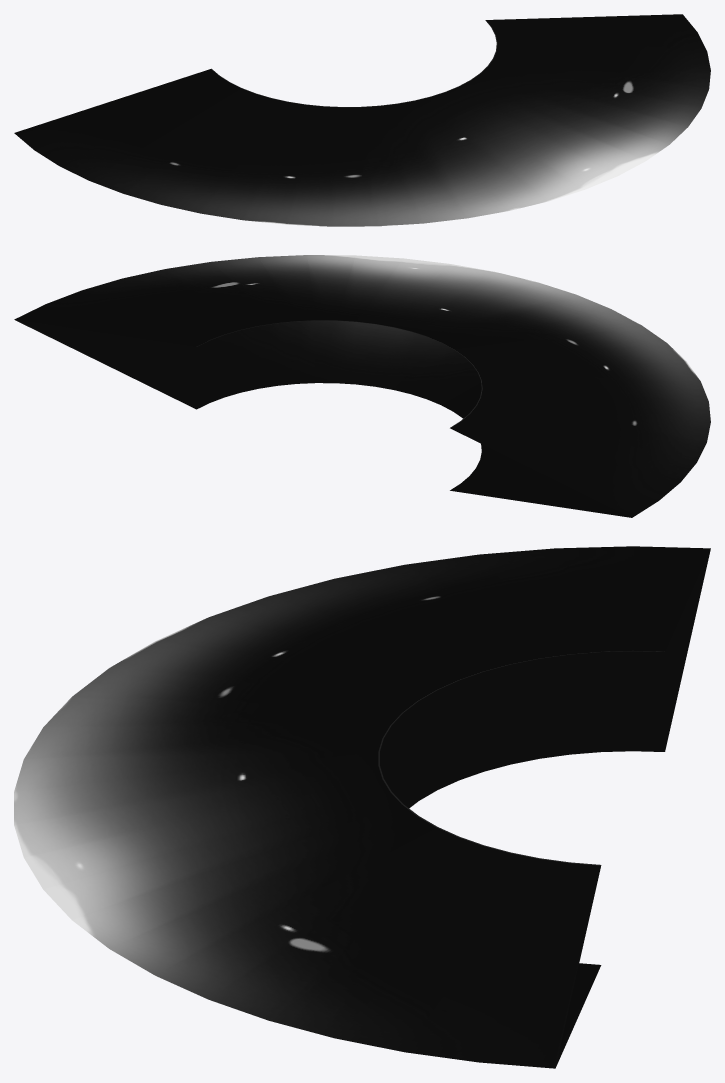
File: slash.fbx
The picture shows the model from 3 angles, top to bottom: view 1: azimuth 30°, elevation 25°; view 2: azimuth 150°, elevation 25°; view 3: azimuth 270°, elevation 25°; orthographic projection. The views are drawn at different scales.
Visible parts, largest first — view 1: Torus; view 2: Torus; view 3: Torus.
Boxes of the visible parts, left/top/right/bottom form: Torus: left=14, top=14, right=710, bottom=226; Torus: left=14, top=255, right=710, bottom=517; Torus: left=14, top=546, right=710, bottom=1068.
Bounding box in the file's own units: 329 × 29.36 × 185.
